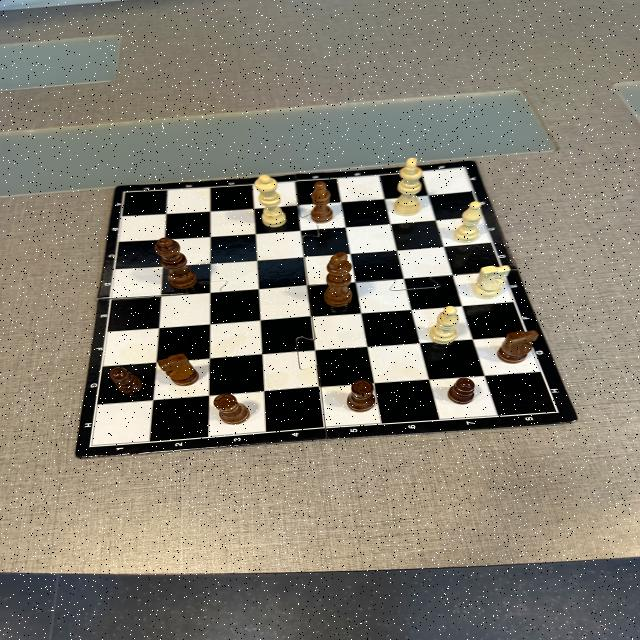Black-Bishop: (310, 181, 334, 223)
Black-King: (324, 252, 354, 308)
Black-Knight: (496, 329, 540, 364), (158, 354, 200, 386)
Black-Pawn: (110, 366, 142, 394), (448, 378, 476, 404)
Black-Queen: (154, 237, 198, 289)
Black-Rook: (214, 393, 252, 425), (346, 378, 376, 412)
White-Bishop: (453, 202, 483, 244), (430, 306, 460, 344)
White-King: (393, 157, 423, 215)
White-Knight: (472, 265, 510, 299)
White-Queen: (254, 174, 286, 228)
